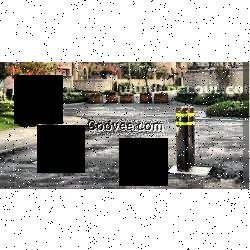bench: (172, 102, 196, 171), (37, 100, 60, 165)
